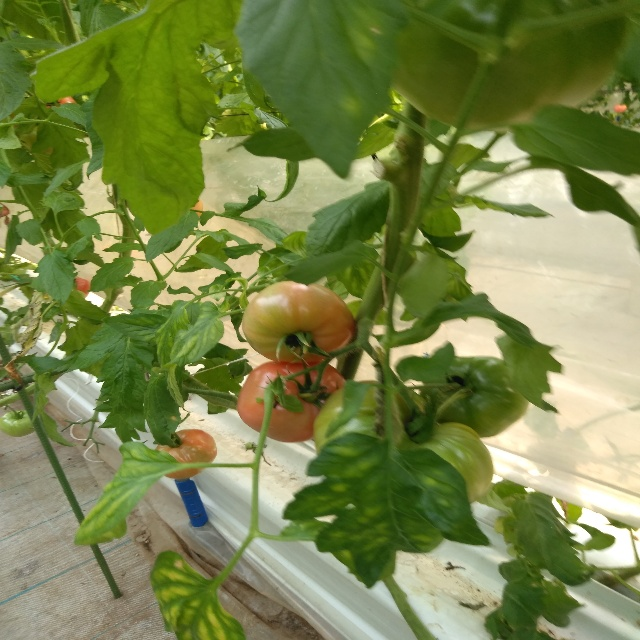b_green: (391, 1, 630, 130), (313, 380, 494, 504), (420, 356, 529, 438), (0, 409, 36, 437)
b_half_ripened: (242, 281, 356, 364), (237, 361, 348, 443), (155, 429, 217, 479)
